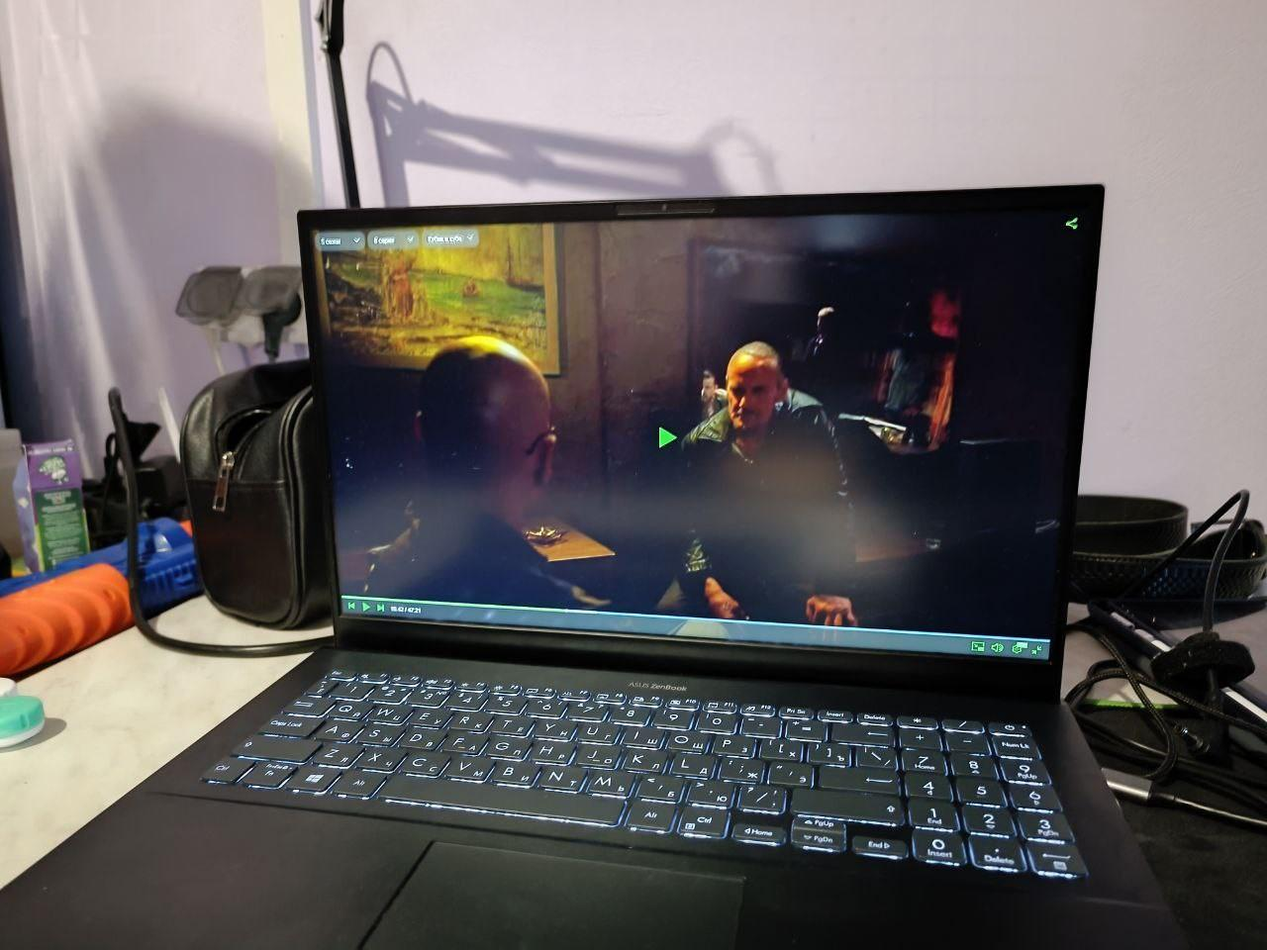monitor: (295, 176, 1114, 698)
